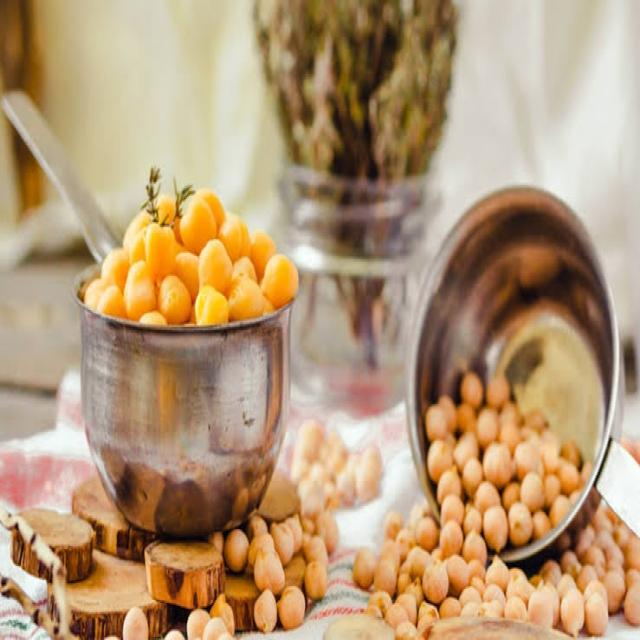Nakhi: (290, 369, 640, 640), (75, 165, 301, 337)
